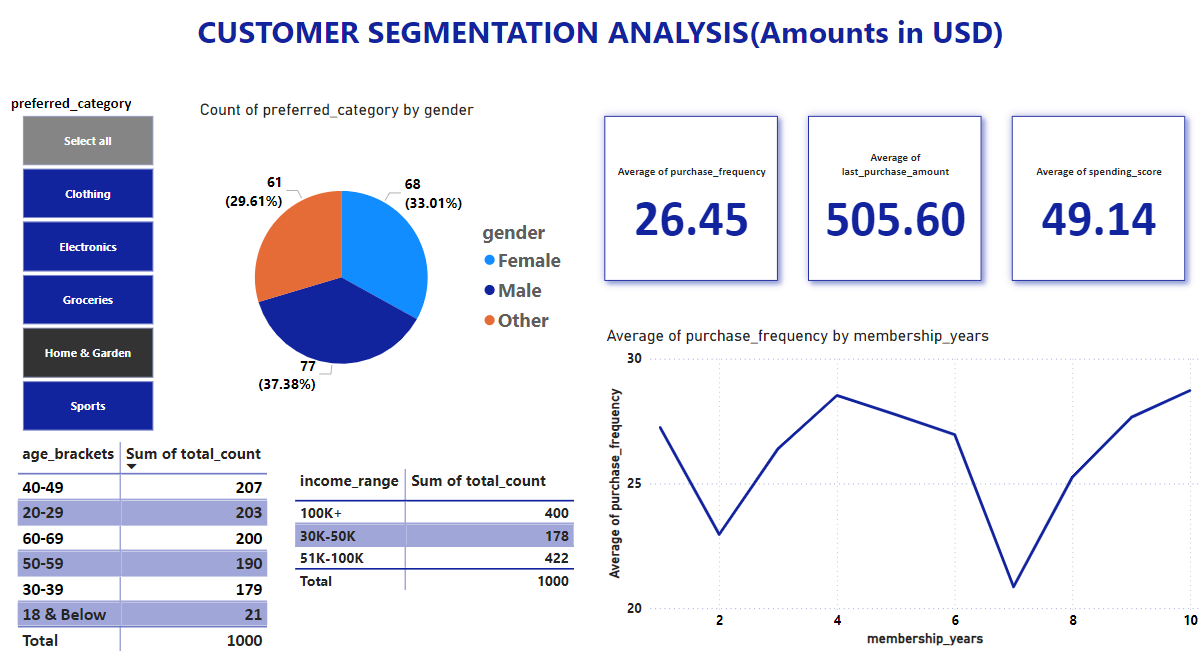

Layout of this report page (visuals, bound fields, positions):
{"tool":"powerbi","page":{"name":"Page 1","canvas":[1280,720],"ordinal":0},"visuals":[{"type":"tableEx","fields":{"Values":["Query1.age_brackets","Sum(Query1.total_count)"]},"box":[15.9,477.2,294.3,243.4],"z":0},{"type":"tableEx","fields":{"Values":["Query2.income_range","Sum(Query2.total_count)"]},"box":[310.2,505.8,316.5,197.2],"z":1000},{"type":"pieChart","fields":{"Y":["CountNonNull(my_projects customer_segmentation_data.preferred_category)"],"Series":["my_projects customer_segmentation_data.gender"]},"box":[209.8,119.1,402.5,357.2],"z":2000},{"type":"slicer","fields":{"Values":["my_projects customer_segmentation_data.preferred_category"]},"box":[1.6,108.2,187.7,369],"z":3000},{"type":"textbox","box":[1.9,18.9,1277.5,60.5],"z":4000},{"type":"cardVisual","fields":{"Data":["Avg(my_projects customer_segmentation_data.purchase_frequency)","Avg(my_projects customer_segmentation_data.last_purchase_amount)","Avg(my_projects customer_segmentation_data.spending_score)"]},"box":[627.4,119.1,652,209.8],"z":5000},{"type":"lineChart","fields":{"Category":["my_projects customer_segmentation_data.membership_years"],"Y":["Avg(my_projects customer_segmentation_data.purchase_frequency)"]},"box":[640.6,359.1,638.7,343.9],"z":6000}]}

Visuals, with their boxes in screenshot pixels (x1, y1, x2, y2), scaled from the page's 1280x720 canvas onto the 1199x658 screenshot:
tableEx - Query1.age_brackets x Sum(Query1.total_count): region(15, 436, 291, 657)
tableEx - Query2.income_range x Sum(Query2.total_count): region(291, 462, 587, 642)
pieChart - CountNonNull(my_projects customer_segmentation_data.preferred_category) x my_projects customer_segmentation_data.gender: region(197, 109, 574, 435)
slicer - my_projects customer_segmentation_data.preferred_category: region(1, 99, 177, 436)
textbox: region(2, 17, 1198, 73)
cardVisual - Avg(my_projects customer_segmentation_data.purchase_frequency) x Avg(my_projects customer_segmentation_data.last_purchase_amount): region(588, 109, 1198, 301)
lineChart - my_projects customer_segmentation_data.membership_years x Avg(my_projects customer_segmentation_data.purchase_frequency): region(600, 328, 1198, 642)
